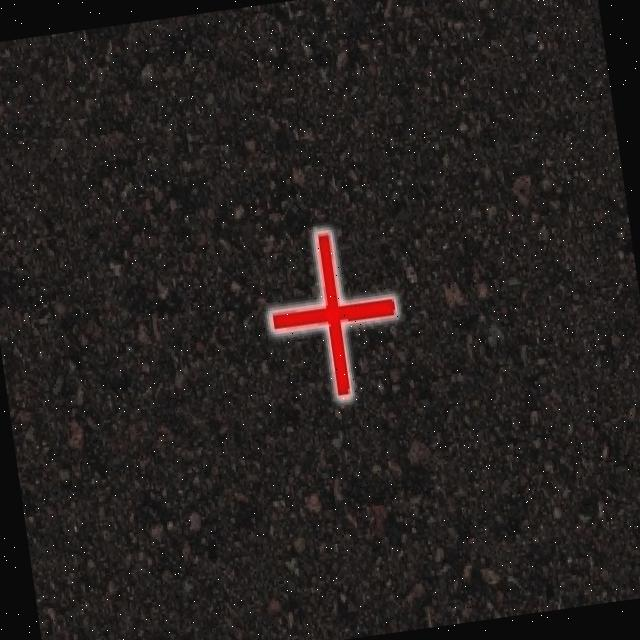x_marker: (260, 223, 406, 404)
